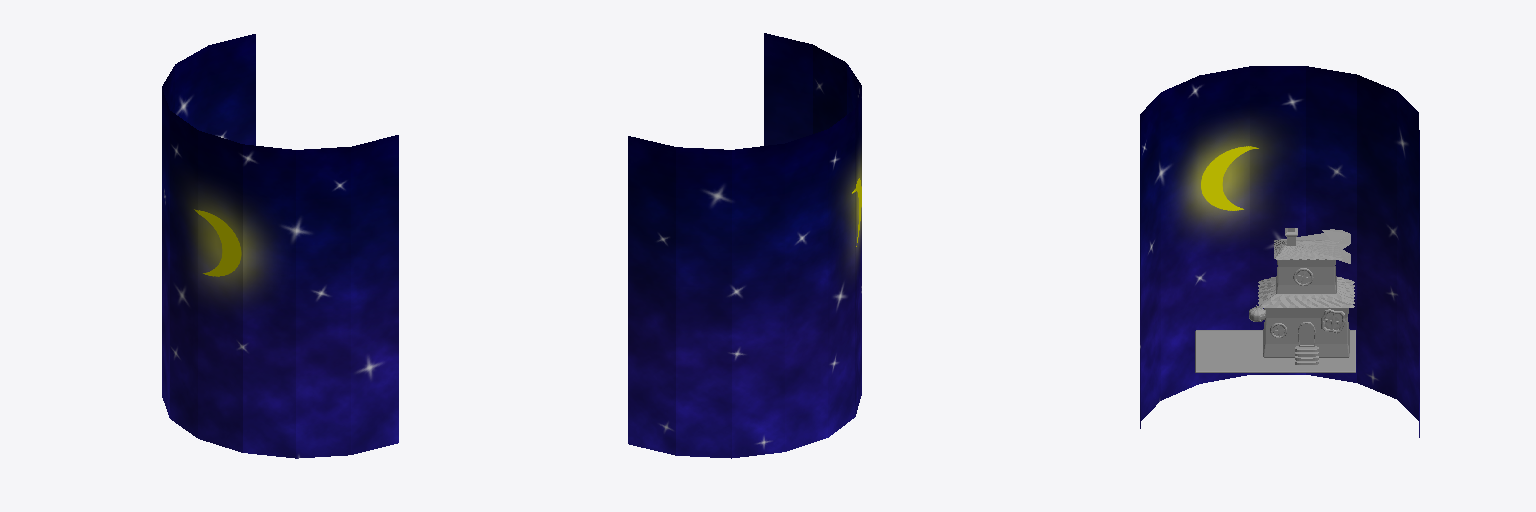
The picture shows the model from 3 angles: view 1: azimuth 30°, elevation 25°; view 2: azimuth 150°, elevation 25°; view 3: azimuth 270°, elevation 25°; orthographic projection.
Parts seen in each view (by area): view 1: Cylinder; view 2: Cylinder; view 3: Cylinder, Cube_001.
Boxes of the visible parts, <box> form: Cylinder: <box>162,34,398,458</box>; Cylinder: <box>628,33,861,458</box>; Cylinder: <box>1140,66,1419,437</box>; Cube_001: <box>1195,228,1355,372</box>.
Bounding box in the file's own units: 17.85 × 35.91 × 29.46.
2 materials, 1 textured.